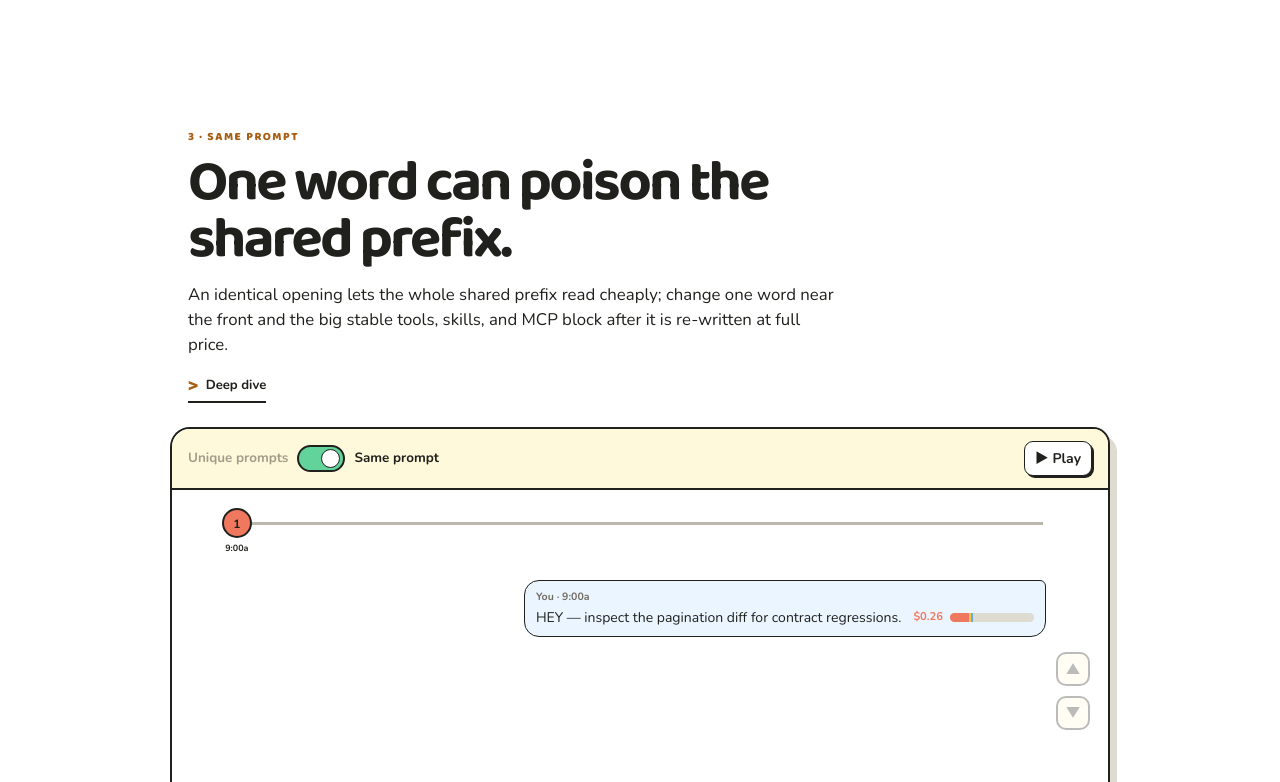
it: Micro and Macro articles › explains cascading subagent cache misses in the same-prompt deep dive
(page scrolled)
Click the button with class "expand" at (227, 387), box [188, 371, 266, 403]
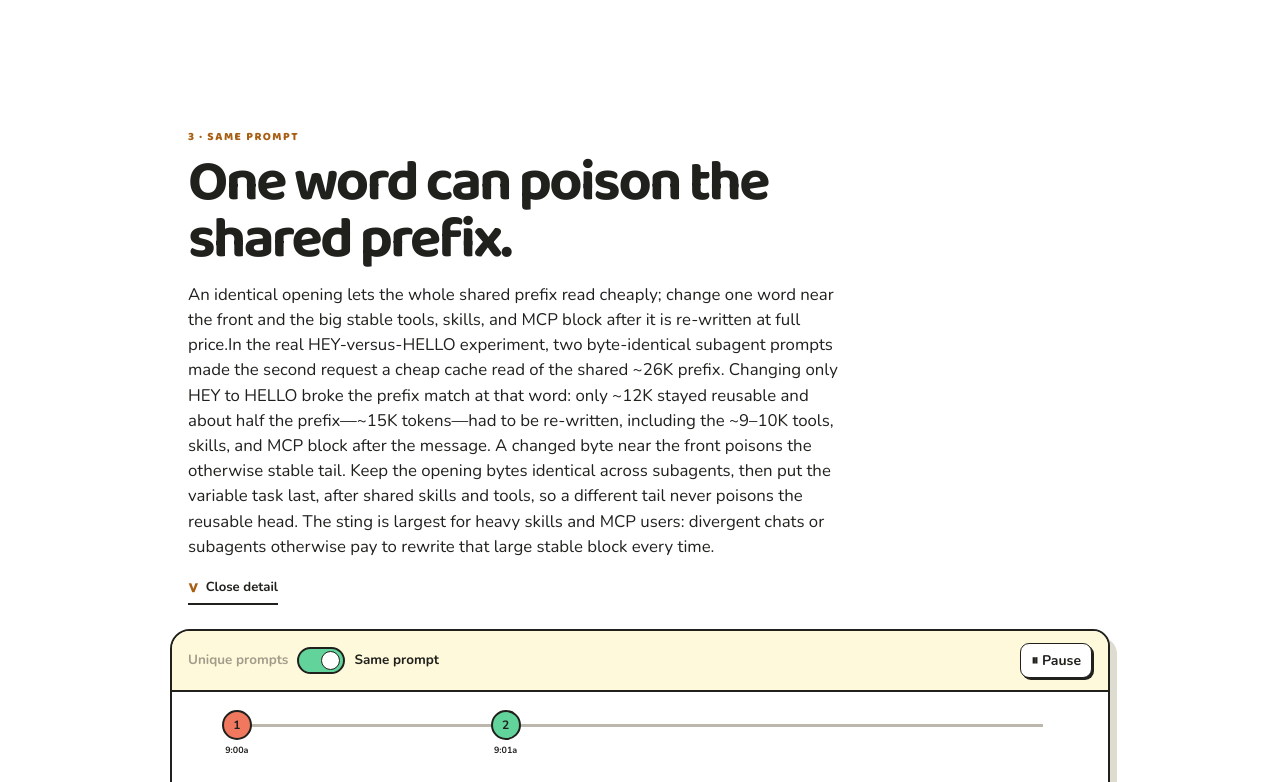
Check: the text with test id "deep-dive" shows "HEY-versus-HELLO experiment", box [188, 333, 838, 558]
Check: the text with test id "deep-dive" shows "~15K tokens", box [188, 333, 838, 558]
Check: the text with test id "deep-dive" shows "~9–10K tools, skills, and MCP block", box [188, 333, 838, 558]
